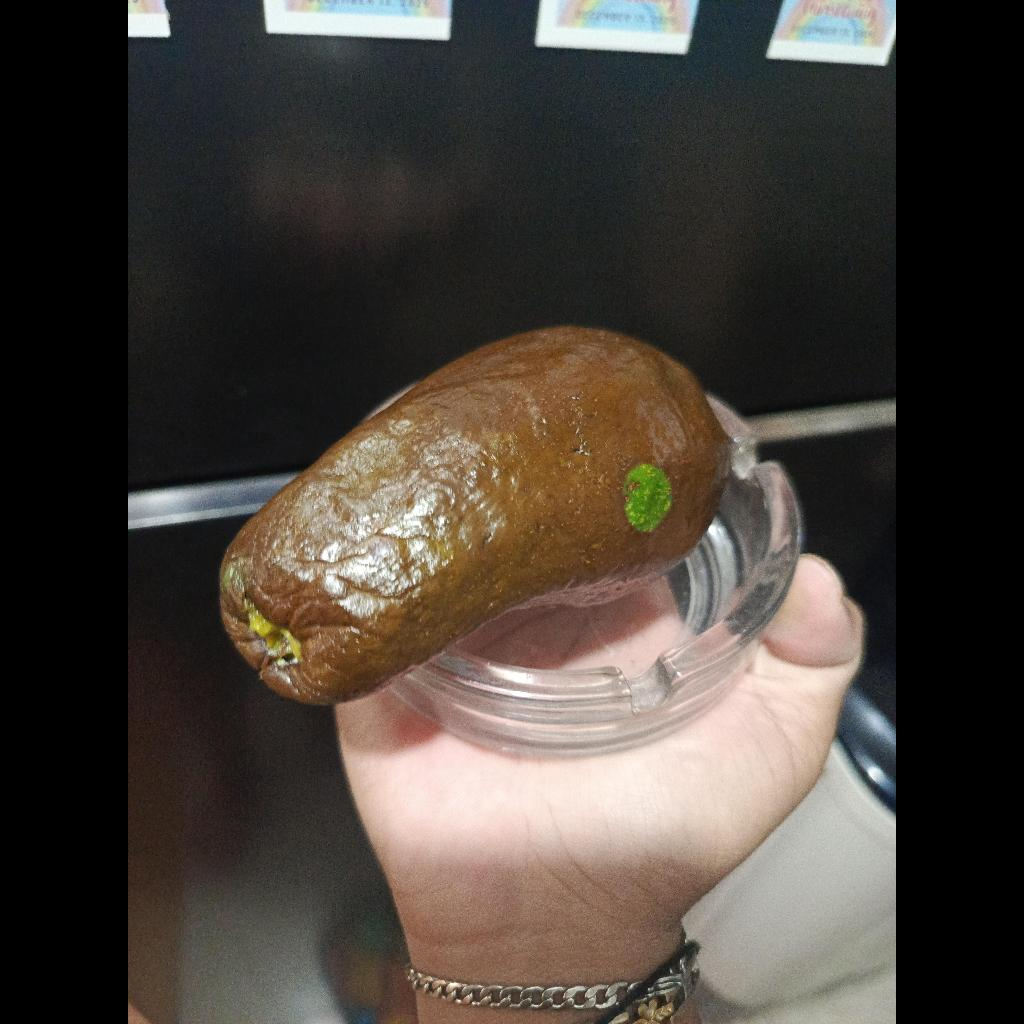stem end rot: (220, 327, 730, 703)
